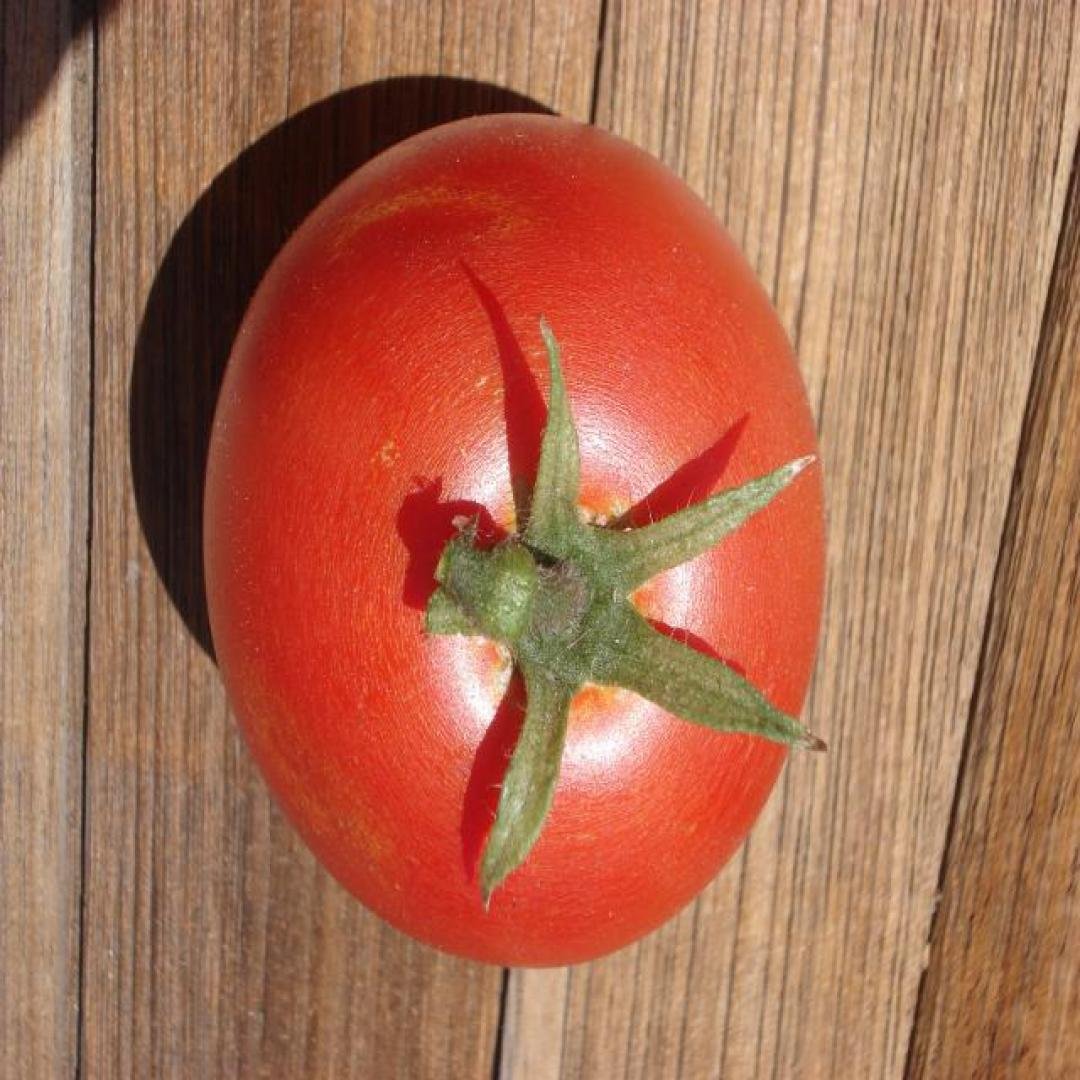matang: (199, 101, 830, 972)
